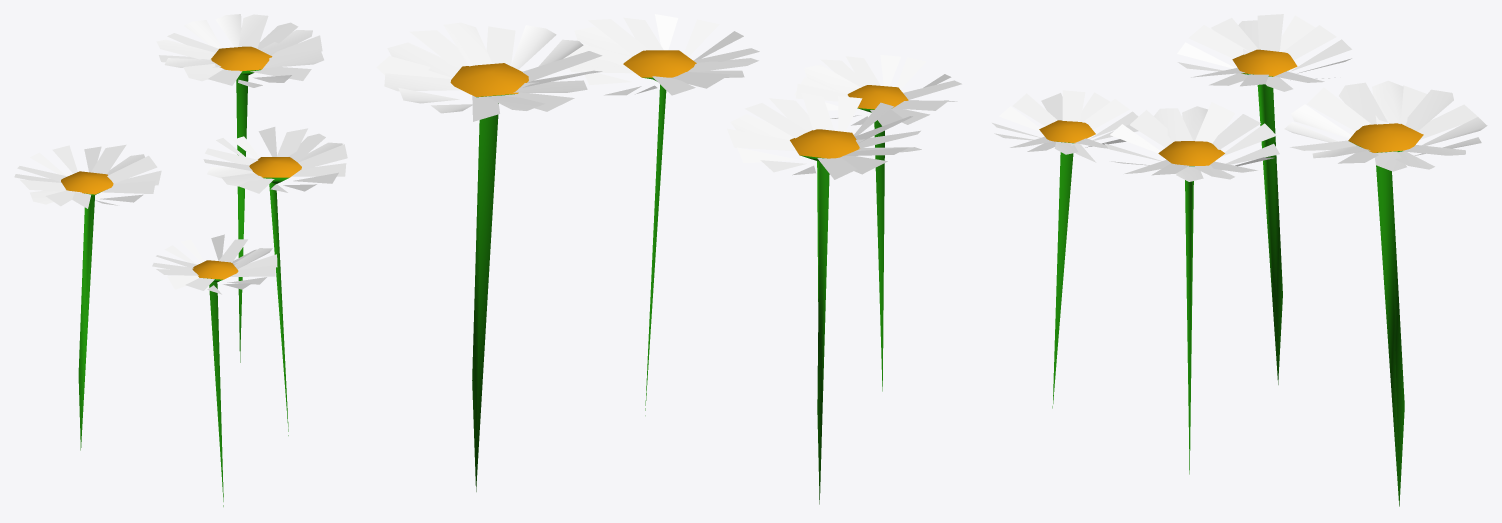
Rendered from SM_Camomile_001_LOD4.fbx.
3 views of the same model, side by side, from view 1: azimuth 30°, elevation 25°; view 2: azimuth 150°, elevation 25°; view 3: azimuth 270°, elevation 25° (orthographic). The views are drawn at different scales.
Parts seen in each view (by area): view 1: Plane.018; view 2: Plane.018; view 3: Plane.018.
Boxes of the visible parts, x1,y1,x2,y2 form: Plane.018: (14, 14, 347, 506); Plane.018: (376, 14, 961, 504); Plane.018: (992, 14, 1487, 506).
Bounding box in the file's own units: 37.54 × 34.05 × 39.72.
